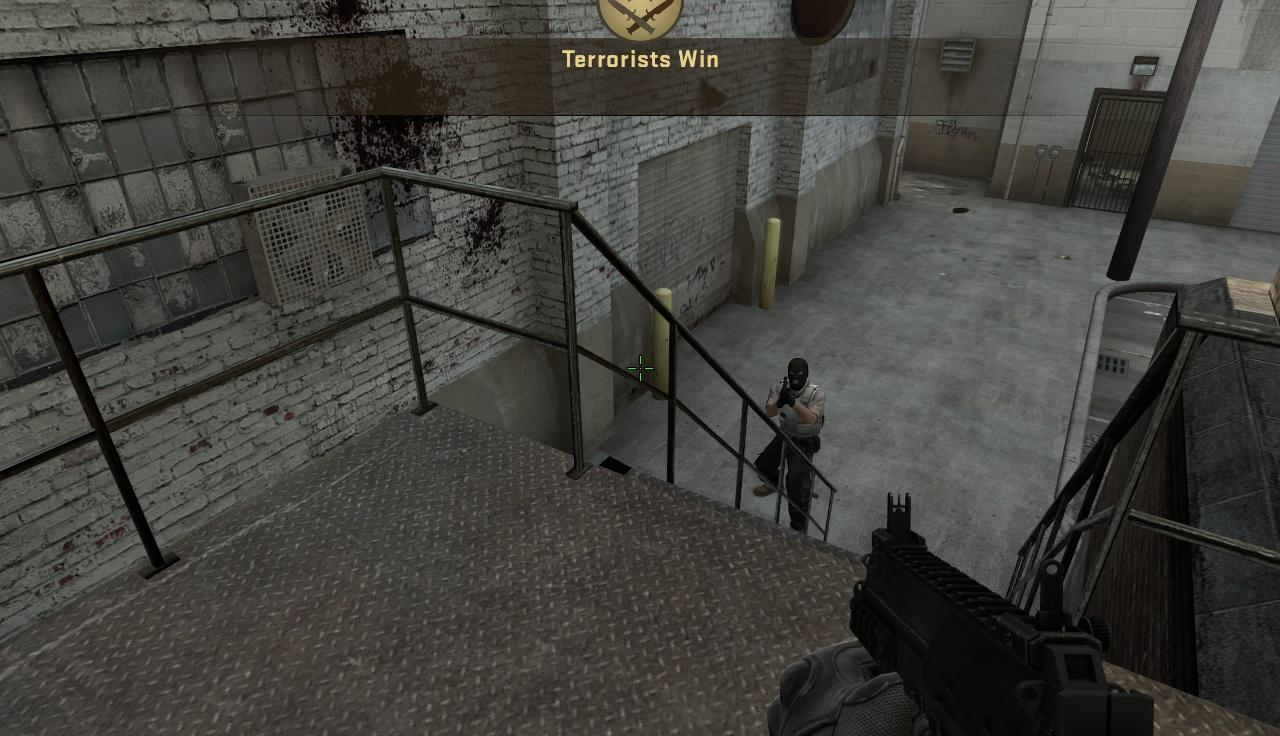rifle: (848, 489, 1156, 736)
tt: (764, 356, 824, 536)
tthead: (786, 358, 809, 391)
